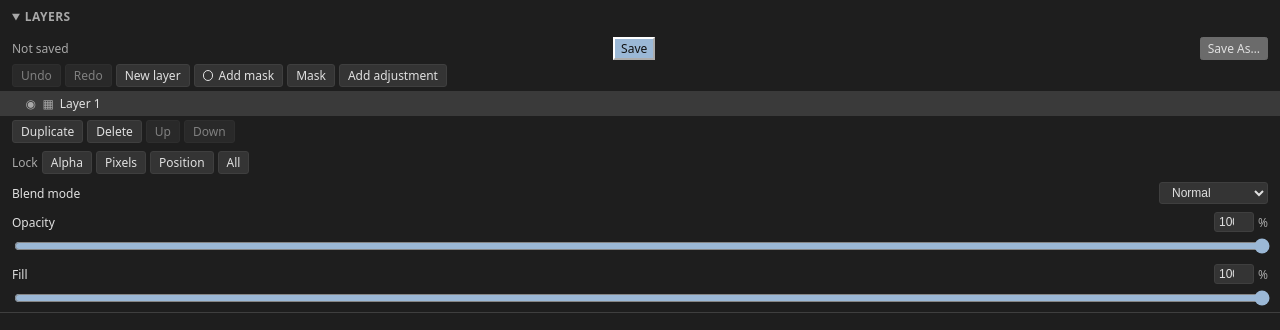
Test: LayersPanel save › shows the unsaved marker after an edit and saves on the Save button
This screenshot has width=1280, height=330.
Expected: the text with test id "editor-save-state" reads "Not saved", left=12, top=40, right=69, bottom=57
Click the button named "Hide Layer 1" at (31, 104), box left=21, top=95, right=40, bottom=112
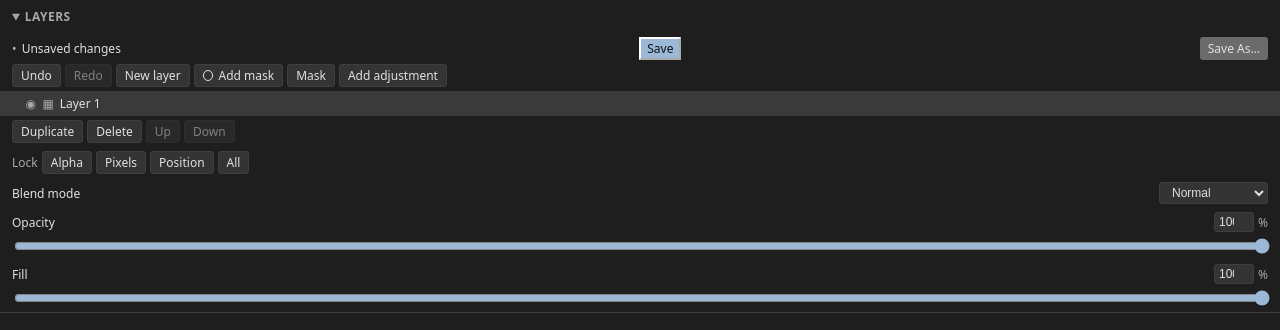
Expected: the element with test id "editor-save-state" shows "•", left=12, top=40, right=16, bottom=57
Expected: the element with test id "editor-save-state" shows "Unsaved changes", left=18, top=40, right=121, bottom=57
Click the button "Save" at (660, 48), box left=639, top=37, right=681, bottom=60
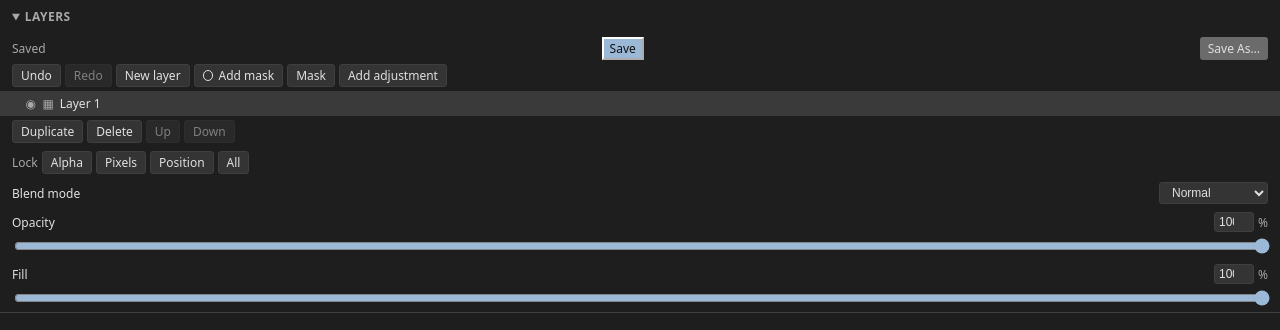
Expected: the text with test id "editor-save-state" reads "Saved", left=12, top=40, right=46, bottom=57
